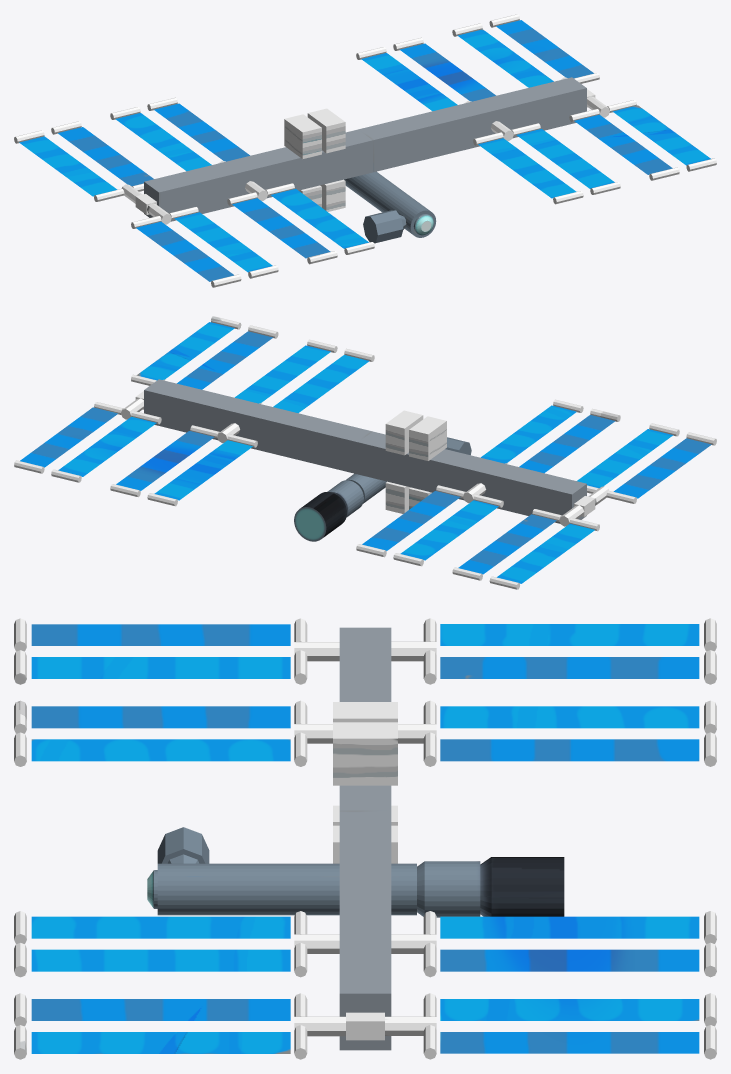
Rendered from Sattelite.glb.
3 views of the same model, one above another, from view 1: azimuth 30°, elevation 25°; view 2: azimuth 150°, elevation 25°; view 3: azimuth 270°, elevation 25° (orthographic). The views are drawn at different scales.
Parts seen in each view (by area): view 1: Satelite; view 2: Satelite; view 3: Satelite.
Boxes of the visible parts, bbox=[...] form: Satelite: bbox=[14, 14, 716, 287]; Satelite: bbox=[14, 316, 716, 589]; Satelite: bbox=[14, 618, 716, 1059].
Size of the model in its own units: 39.23 by 6.67 by 27.12.
1 material, 1 textured.
